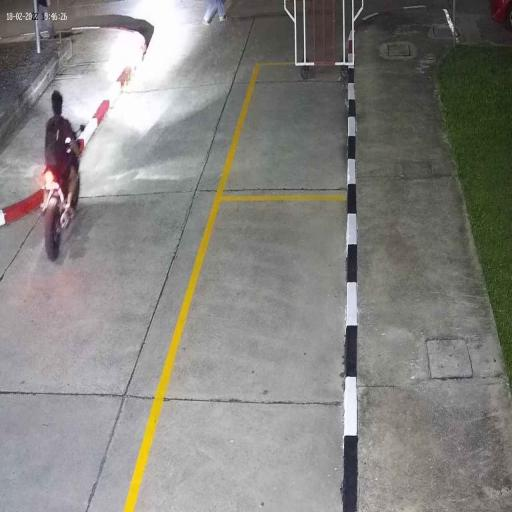motorcycle: (39, 138, 85, 264)
